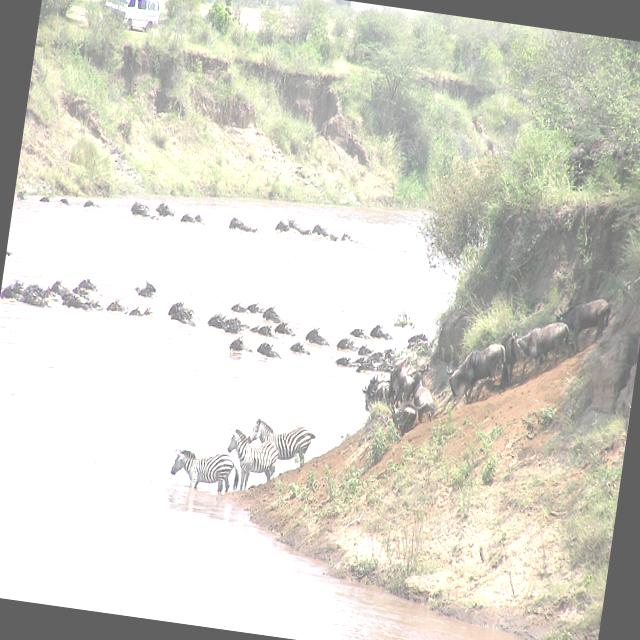Vehicle: (100, 0, 164, 35)
